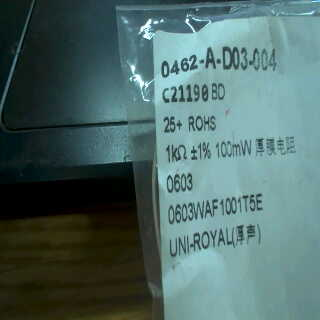1kR: (166, 140, 189, 164)
